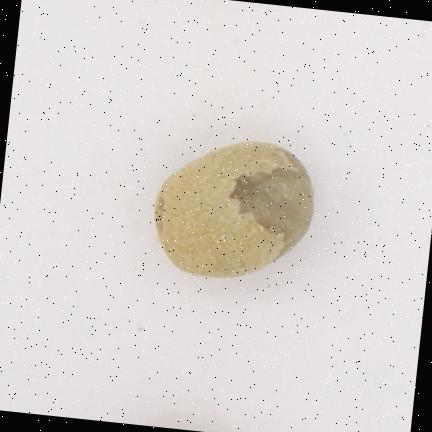immature: (155, 142, 313, 277)
